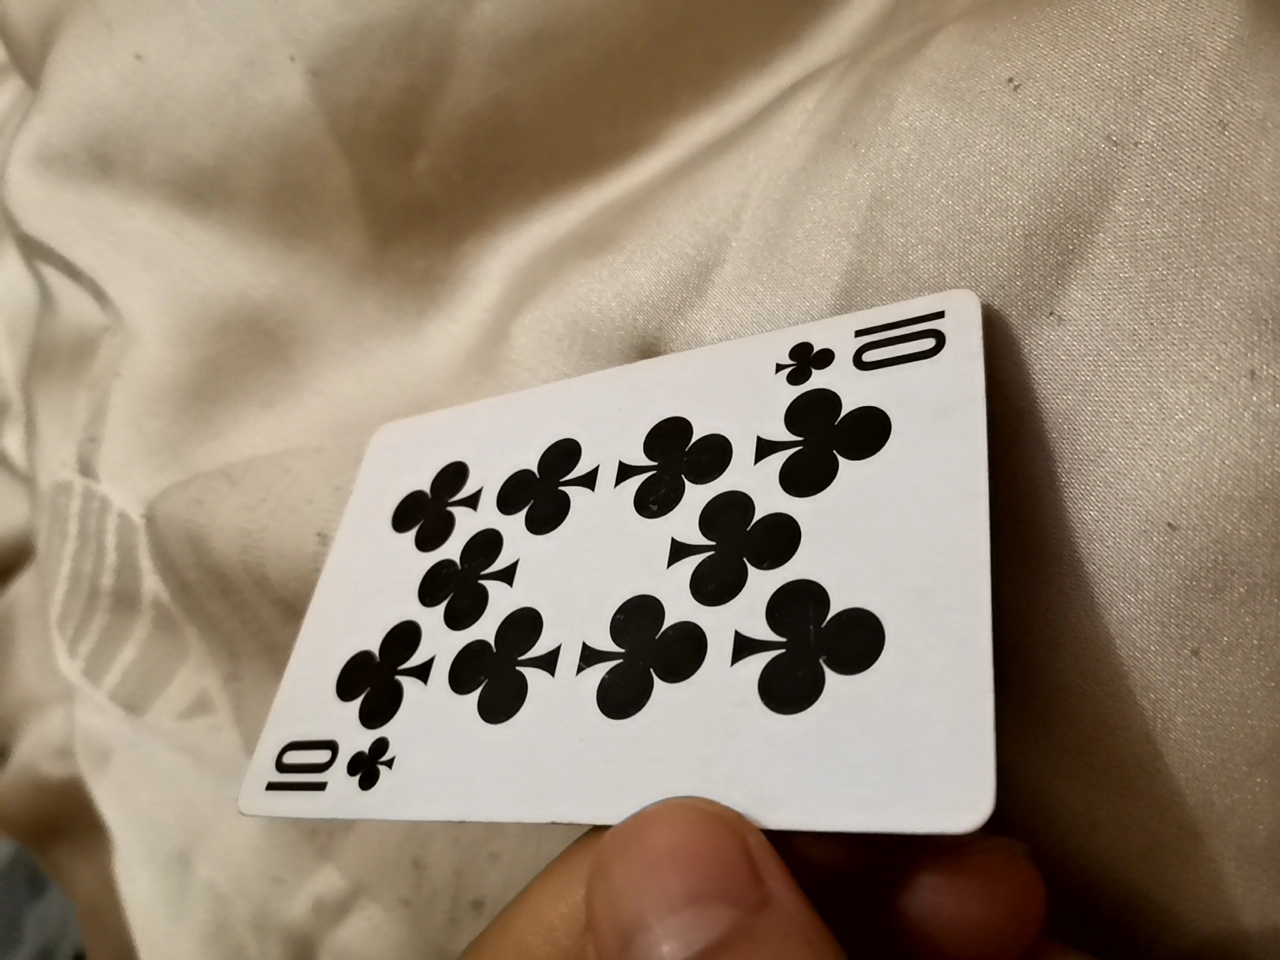mh 10: (256, 296, 988, 839)
